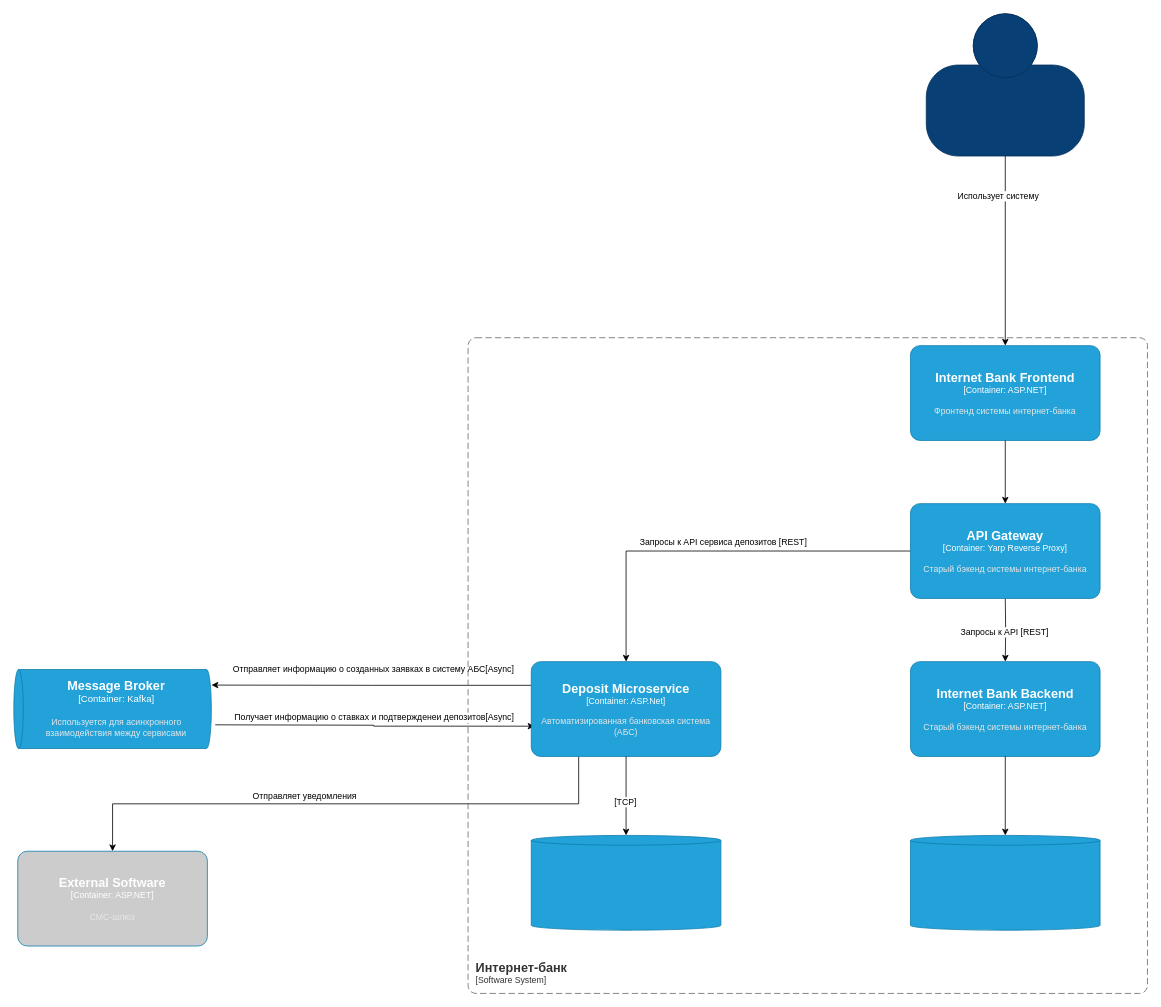
Image size: 1161x1007. Some labels were removed from this diagram. Here are the shapes that lost their labels. From the top down, the centre of each, then its label:
[1004,84]: Client [Person] Клиент
[625,882]: Deposit-Microservice-db [Container: MS SQL] БД хранит информацию о депозитах
[1005,882]: Internet-Back-db [Container: MS SQL] База данных интернет-банка
